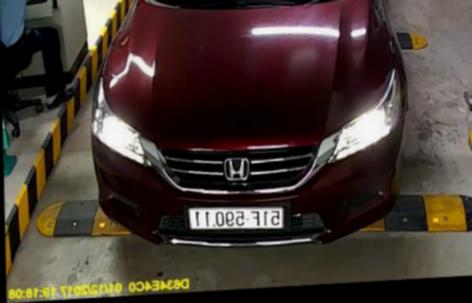License_Plate: (180, 199, 290, 236)
